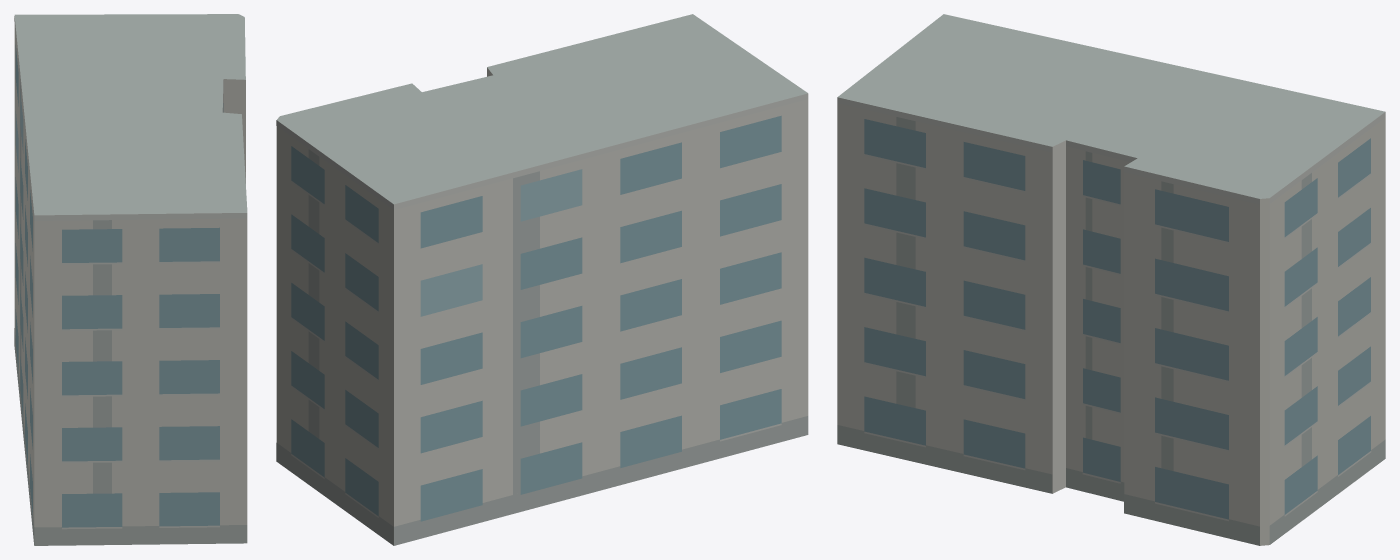
The model's file is survey-upis-32686211.glb.
3 views of the same model, side by side, from view 1: azimuth 30°, elevation 25°; view 2: azimuth 150°, elevation 25°; view 3: azimuth 270°, elevation 25° (orthographic). The views are drawn at different scales.
Parts seen in each view (by area): view 1: survey-upis-32686211.tmp; view 2: survey-upis-32686211.tmp; view 3: survey-upis-32686211.tmp.
Part boxes in pixels (bbox=[...]): survey-upis-32686211.tmp: bbox=[14, 14, 247, 545]; survey-upis-32686211.tmp: bbox=[276, 14, 808, 545]; survey-upis-32686211.tmp: bbox=[837, 14, 1385, 545].
Size of the model in its own units: 16.24 by 14.2 by 20.35.
